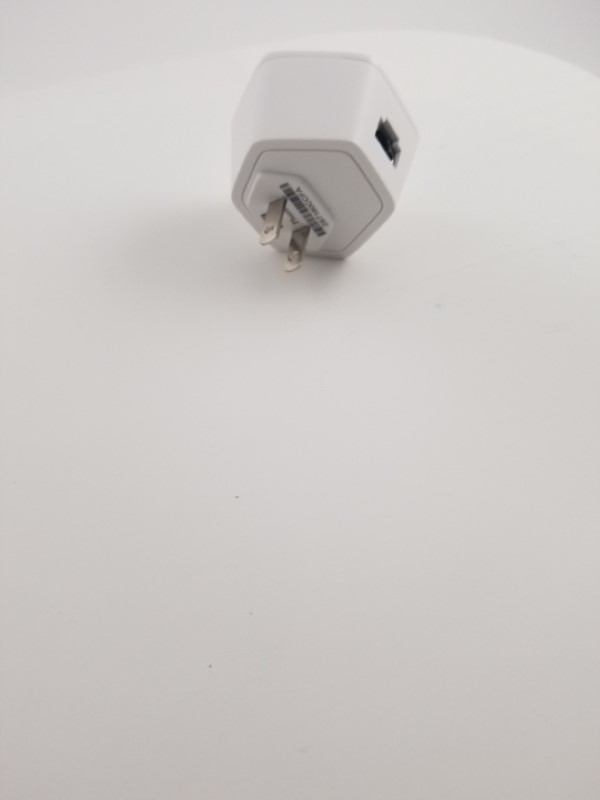pod: (228, 45, 425, 280)
